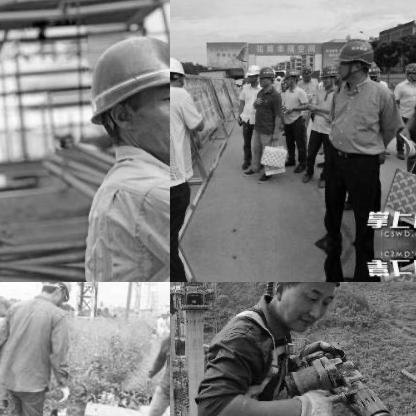Helmet: (74, 19, 169, 167), (262, 282, 354, 334), (334, 36, 372, 80), (35, 282, 73, 306), (170, 54, 186, 89), (318, 61, 336, 85), (282, 66, 298, 86), (364, 58, 378, 80), (257, 65, 271, 85), (161, 306, 169, 341), (244, 63, 258, 82), (299, 62, 313, 80), (404, 59, 415, 81)
